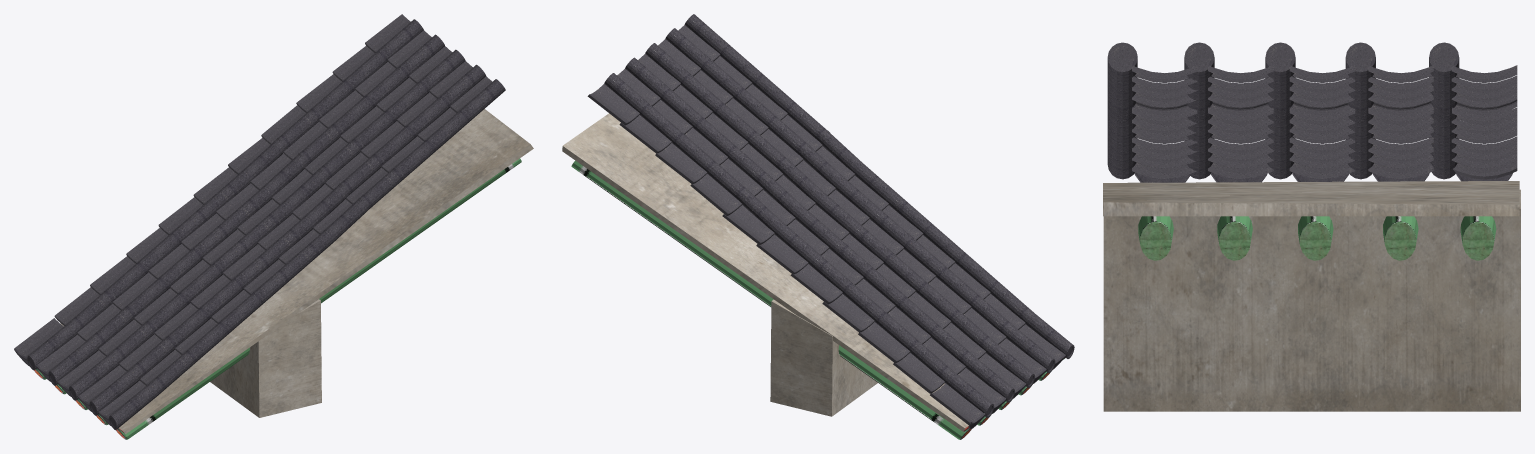
File: SM_Roof_18.fbx
3 views of the same model, side by side, from view 1: azimuth 30°, elevation 25°; view 2: azimuth 150°, elevation 25°; view 3: azimuth 270°, elevation 25° (orthographic). The views are drawn at different scales.
Parts seen in each view (by area): view 1: SM_Roof_18; view 2: SM_Roof_18; view 3: SM_Roof_18.
Boxes of the visible parts, <box> form: SM_Roof_18: <box>14,14,533,439</box>; SM_Roof_18: <box>562,14,1074,439</box>; SM_Roof_18: <box>1103,42,1520,411</box>.
Bounding box in the file's own units: 478 × 211 × 303.
5 materials, 5 textured.
